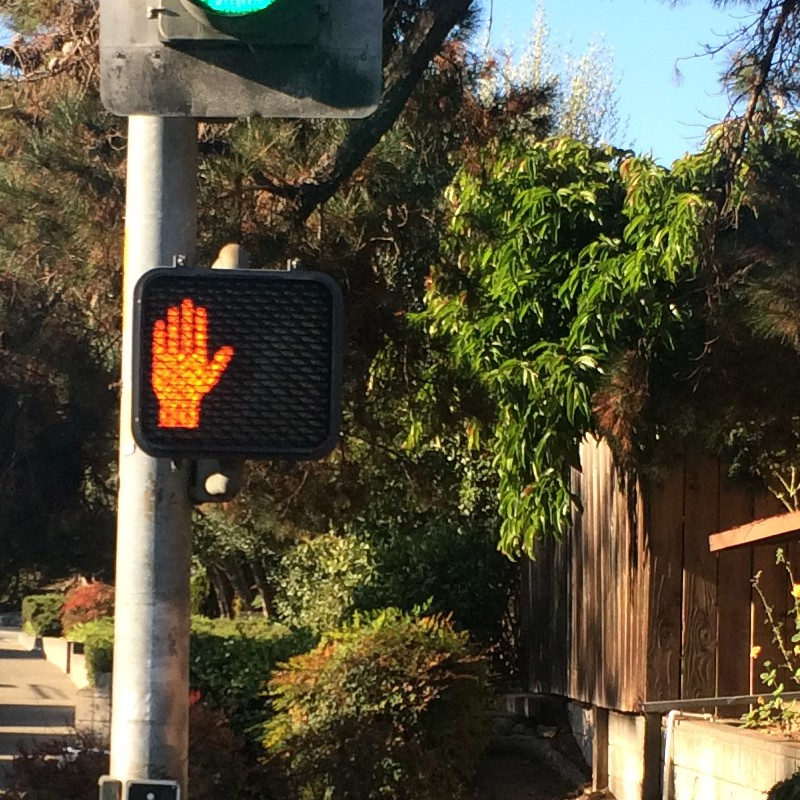stop: (120, 258, 353, 474)
